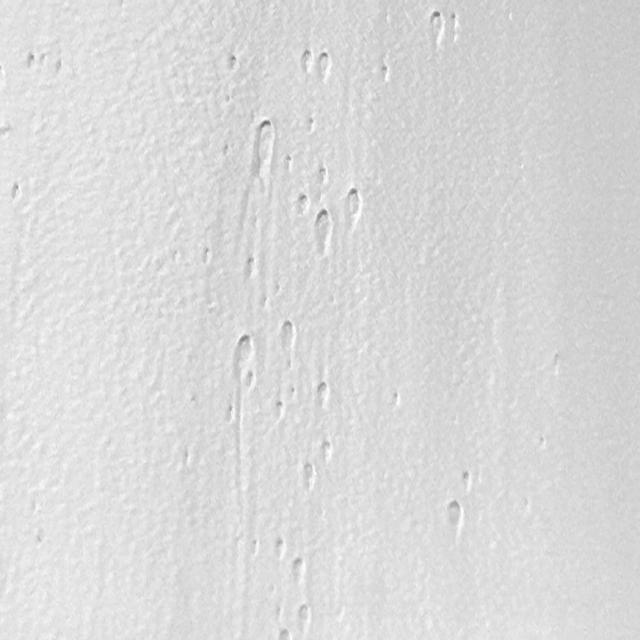pin holes: (252, 121, 276, 164), (310, 209, 332, 251), (422, 8, 446, 46), (343, 188, 366, 223), (233, 334, 255, 370), (444, 498, 466, 532), (276, 318, 296, 352), (294, 600, 314, 632), (445, 12, 464, 43), (314, 51, 333, 81), (289, 556, 309, 584), (300, 462, 318, 491), (312, 380, 330, 407), (7, 180, 25, 207), (300, 49, 317, 77), (293, 192, 311, 218), (32, 526, 51, 550), (318, 438, 335, 462), (222, 402, 238, 426), (273, 538, 289, 561), (242, 254, 258, 277), (390, 390, 404, 412), (249, 536, 263, 558), (25, 51, 40, 71), (243, 369, 256, 392), (461, 470, 475, 491), (0, 63, 11, 89), (273, 398, 286, 419), (200, 247, 213, 268), (537, 432, 550, 452), (274, 626, 292, 640), (378, 62, 391, 81), (316, 166, 328, 185), (284, 155, 296, 174), (306, 116, 318, 135), (54, 59, 66, 76), (228, 54, 240, 70), (289, 385, 300, 402)
